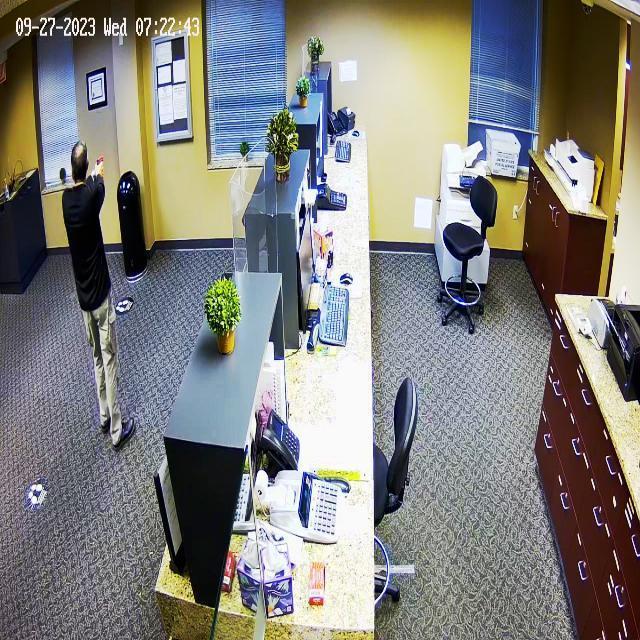Gun: (94, 152, 125, 175)
